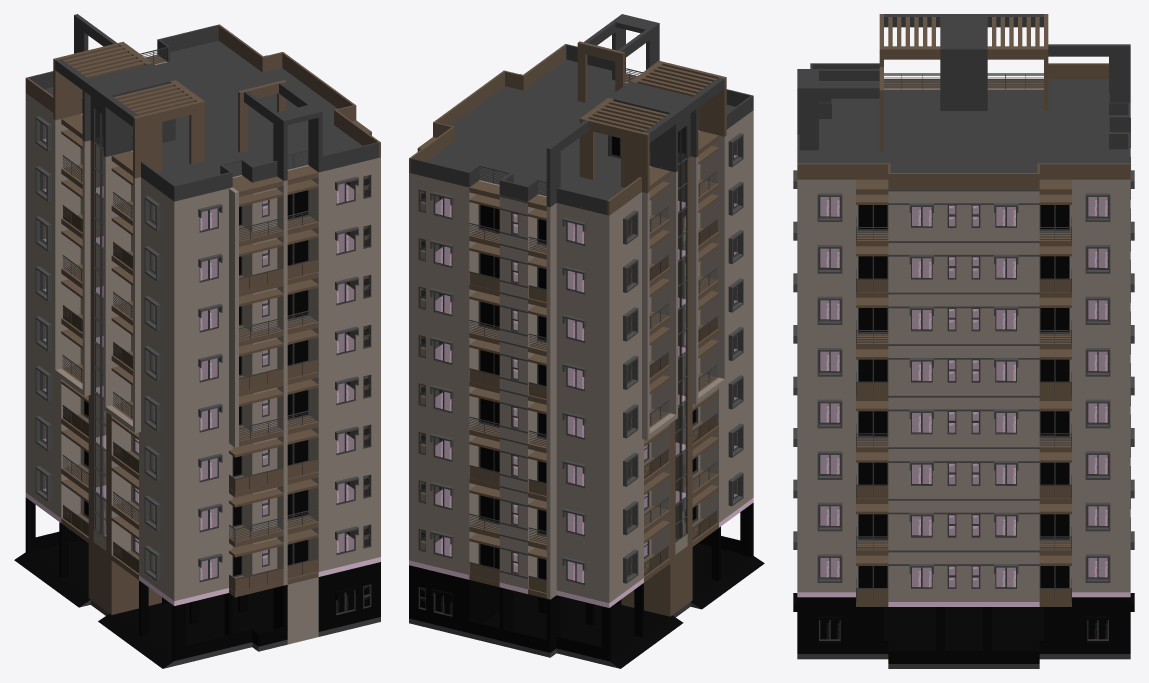
File: ab17_obj_02_lev3.glb
3 views of the same model, side by side, from view 1: azimuth 30°, elevation 25°; view 2: azimuth 150°, elevation 25°; view 3: azimuth 270°, elevation 25° (orthographic). The views are drawn at different scales.
Parts seen in each view (by area): view 1: ab17_obj_02_lev3; view 2: ab17_obj_02_lev3; view 3: ab17_obj_02_lev3.
Part boxes in pixels (<box>): ab17_obj_02_lev3: <box>14,14,380,668</box>; ab17_obj_02_lev3: <box>409,14,764,668</box>; ab17_obj_02_lev3: <box>793,14,1134,668</box>.
Size of the model in its own units: 7.72 by 16.45 by 9.41.
Materials: 7 (1 with a texture image).
